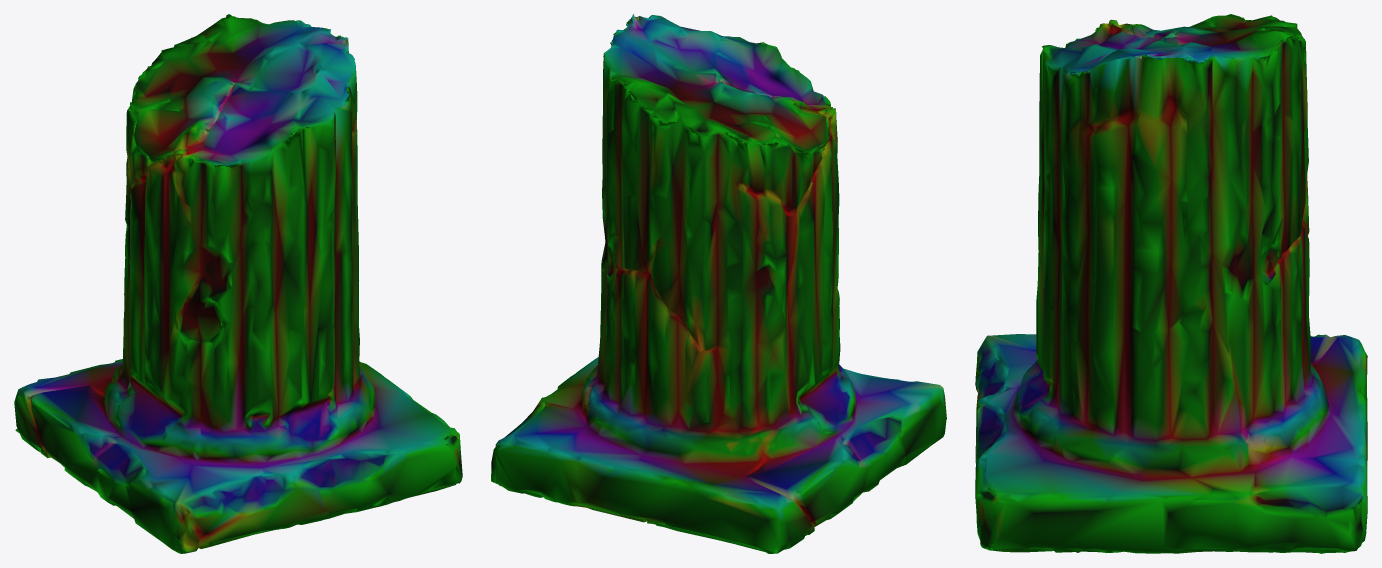
File: SM_Ruin_B_L1.glb
The picture shows the model from 3 angles, left to right: view 1: azimuth 30°, elevation 25°; view 2: azimuth 150°, elevation 25°; view 3: azimuth 270°, elevation 25°; orthographic projection. The views are drawn at different scales.
Visible parts, largest first — view 1: SM_Ruin_B; view 2: SM_Ruin_B; view 3: SM_Ruin_B.
Boxes of the visible parts, x1=… form: SM_Ruin_B: x1=14, y1=14, x2=462, y2=553; SM_Ruin_B: x1=491, y1=14, x2=946, y2=553; SM_Ruin_B: x1=975, y1=14, x2=1367, y2=553.
Bounding box in the file's own units: 1.95 × 2.59 × 1.94.
